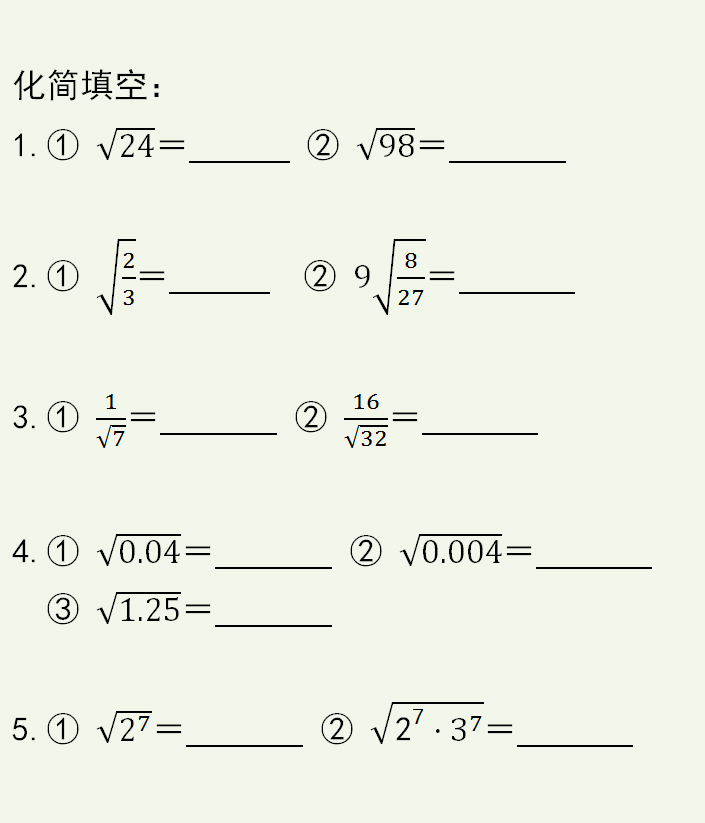division: (343, 413, 392, 426), (93, 412, 125, 426), (394, 271, 425, 284), (121, 274, 135, 284)
sqrt: (369, 697, 484, 746), (367, 232, 428, 319), (400, 530, 502, 572), (99, 233, 143, 315), (99, 590, 185, 628), (96, 531, 180, 568), (98, 708, 155, 746), (95, 125, 158, 159), (353, 125, 416, 159), (349, 422, 387, 452), (99, 423, 126, 453)
